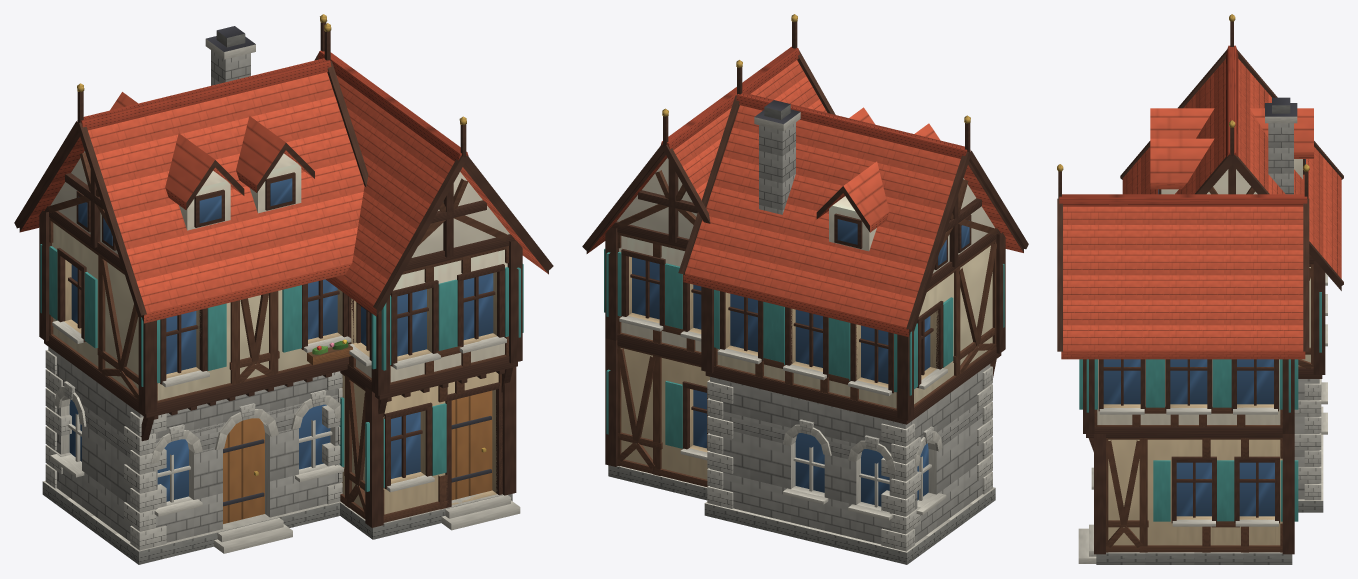
The model's file is res_house_L_01.glb.
The picture shows the model from 3 angles, left to right: view 1: azimuth 30°, elevation 25°; view 2: azimuth 150°, elevation 25°; view 3: azimuth 270°, elevation 25°; orthographic projection. The views are drawn at different scales.
Parts seen in each view (by area): view 1: res_house_L_01; view 2: res_house_L_01; view 3: res_house_L_01.
Boxes of the visible parts, <box> form: res_house_L_01: <box>14,14,553,564</box>; res_house_L_01: <box>582,14,1028,564</box>; res_house_L_01: <box>1057,14,1343,564</box>.
Bounding box in the file's own units: 10.39 × 11.92 × 7.78.
Materials: 1 (1 with a texture image).
